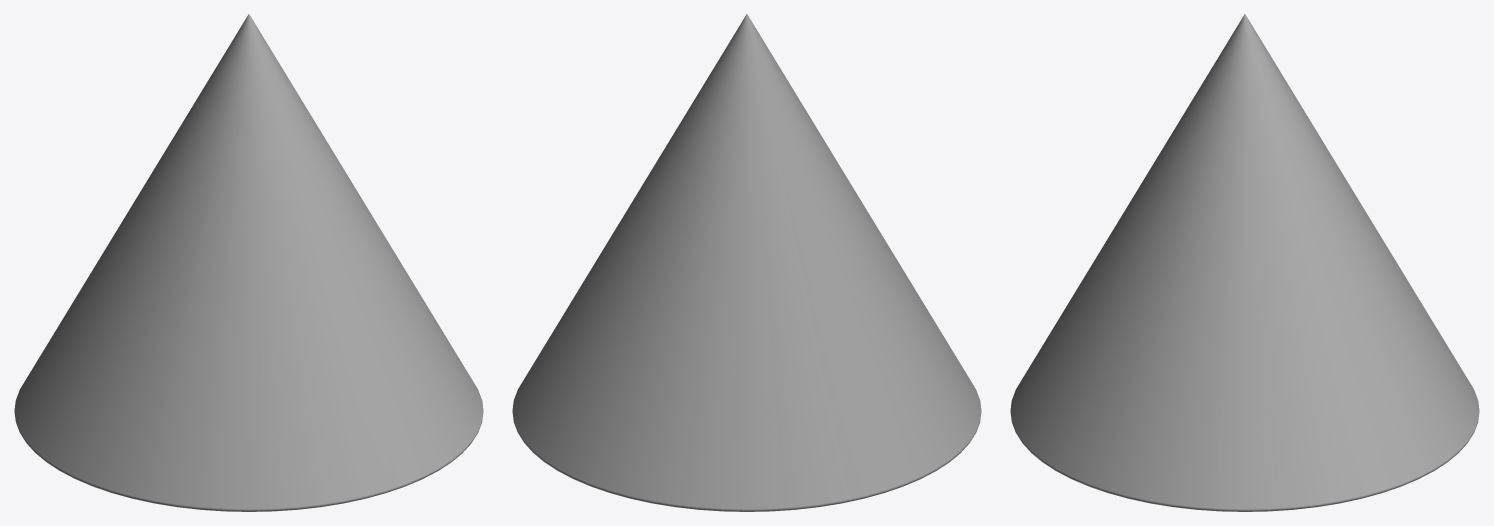
3 renders of one model, left to right at view 1: azimuth 30°, elevation 25°; view 2: azimuth 150°, elevation 25°; view 3: azimuth 270°, elevation 25°, orthographic.
Parts seen in each view (by area): view 1: cone.1; view 2: cone.1; view 3: cone.1.
Part boxes in pixels (bbox=[...]): cone.1: bbox=[14, 14, 483, 511]; cone.1: bbox=[512, 14, 981, 511]; cone.1: bbox=[1010, 14, 1479, 511].
Size of the model in its own units: 0.1492 by 0.1402 by 0.1492.
1 material, 1 textured.
